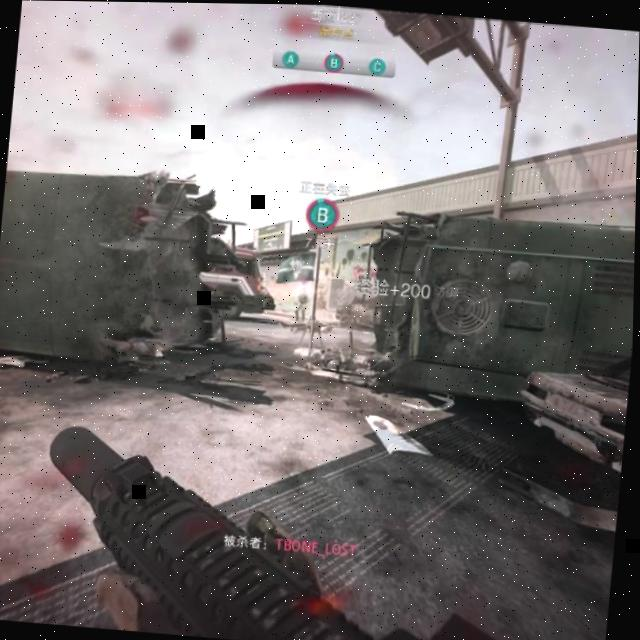MW2_body: (295, 272, 315, 319)
